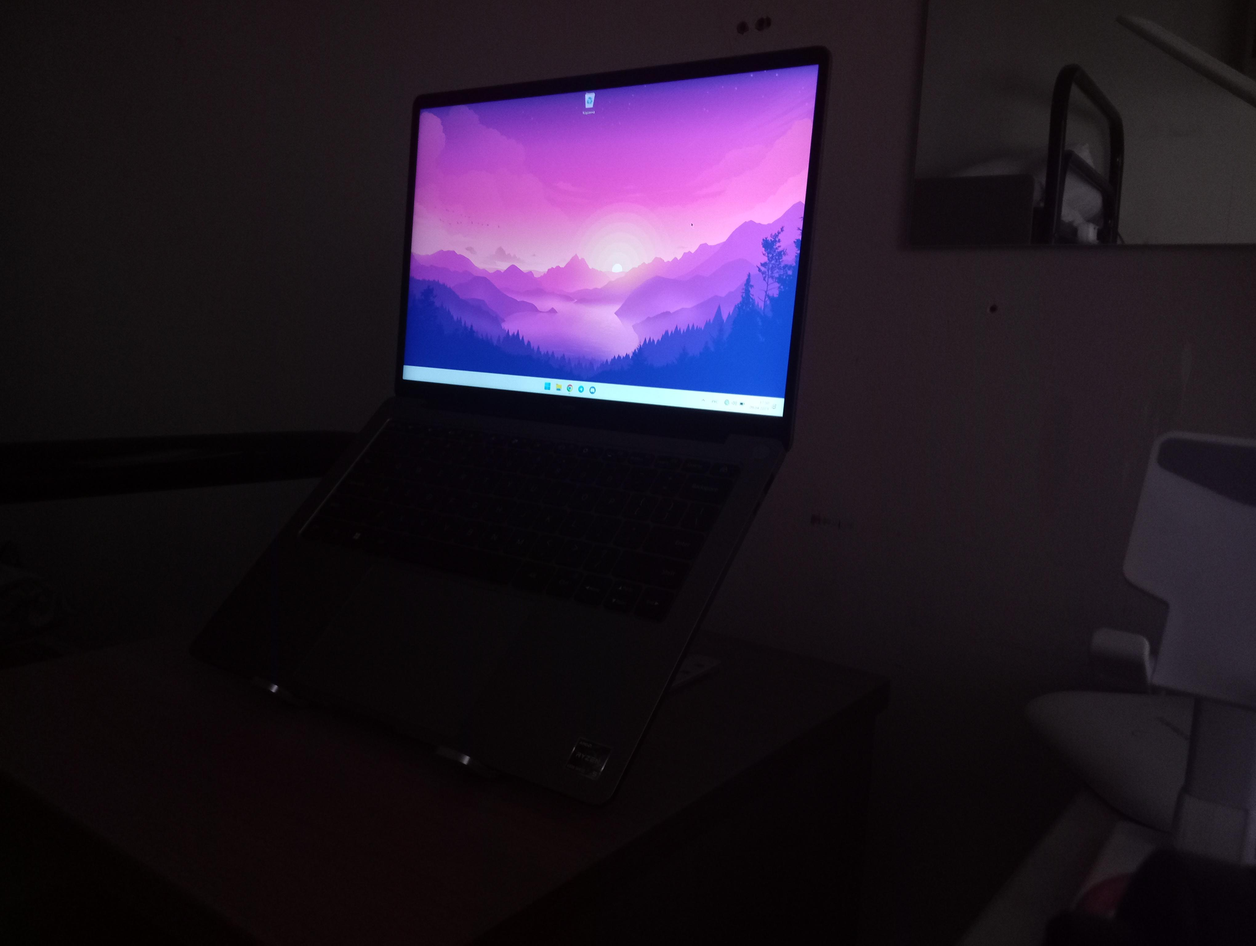monitor: (391, 40, 836, 457)
